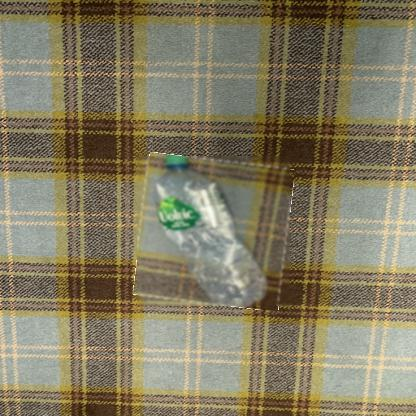plastic-bottles: (139, 157, 293, 308)
